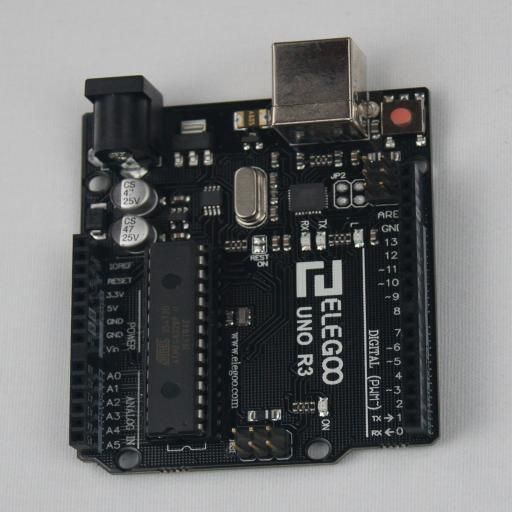Arduino Uno -Black-: (69, 38, 440, 474)
